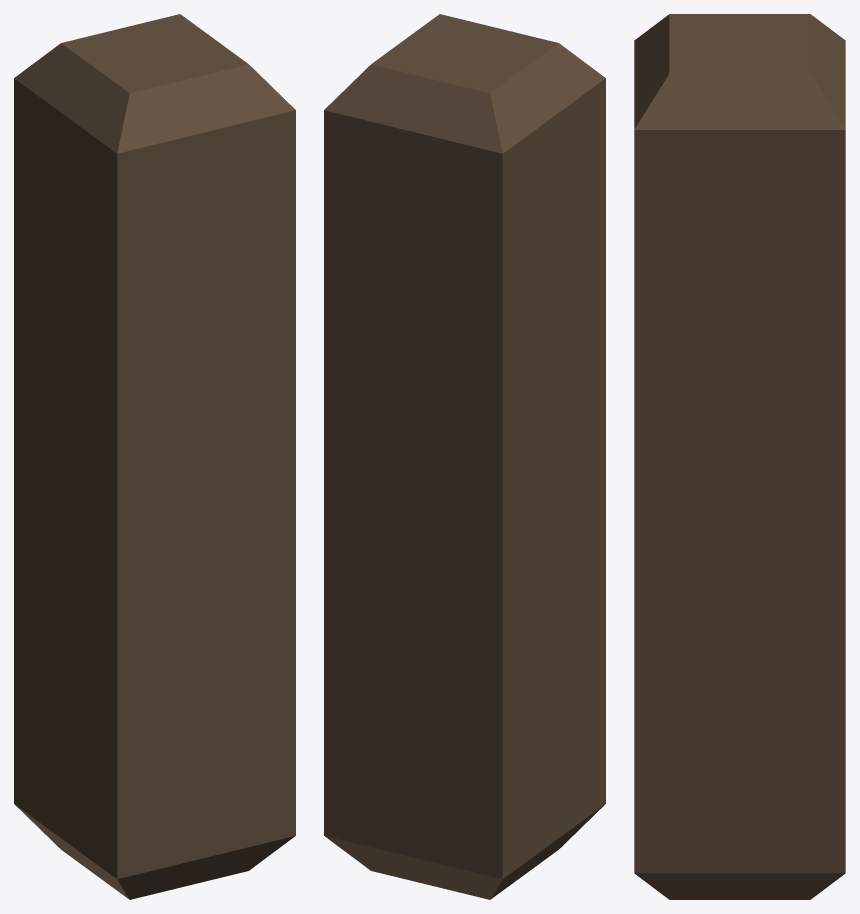
File: Wood_Post_Large.glb
3 views of the same model, side by side, from view 1: azimuth 30°, elevation 25°; view 2: azimuth 150°, elevation 25°; view 3: azimuth 270°, elevation 25° (orthographic). The views are drawn at different scales.
Visible parts, largest first — view 1: Wood_Post_Large; view 2: Wood_Post_Large; view 3: Wood_Post_Large.
Part boxes in pixels (bbox=[...]): Wood_Post_Large: bbox=[14, 14, 295, 899]; Wood_Post_Large: bbox=[324, 14, 605, 899]; Wood_Post_Large: bbox=[634, 14, 845, 899].
Size of the model in its own units: 0.231 by 0.9959 by 0.231.
